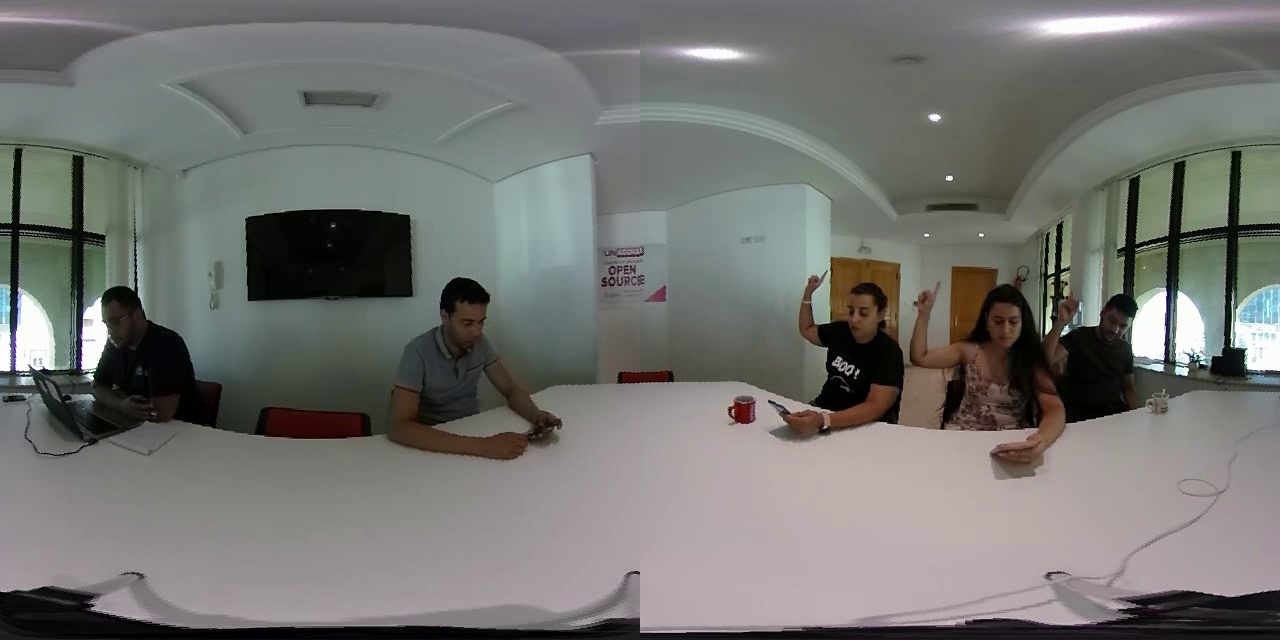person: (383, 277, 546, 462), (911, 256, 1042, 459), (771, 256, 905, 441), (70, 277, 206, 422), (1047, 274, 1154, 411), (1049, 274, 1156, 411)
speaking: (907, 264, 962, 377), (788, 256, 842, 359), (1051, 279, 1087, 372)
